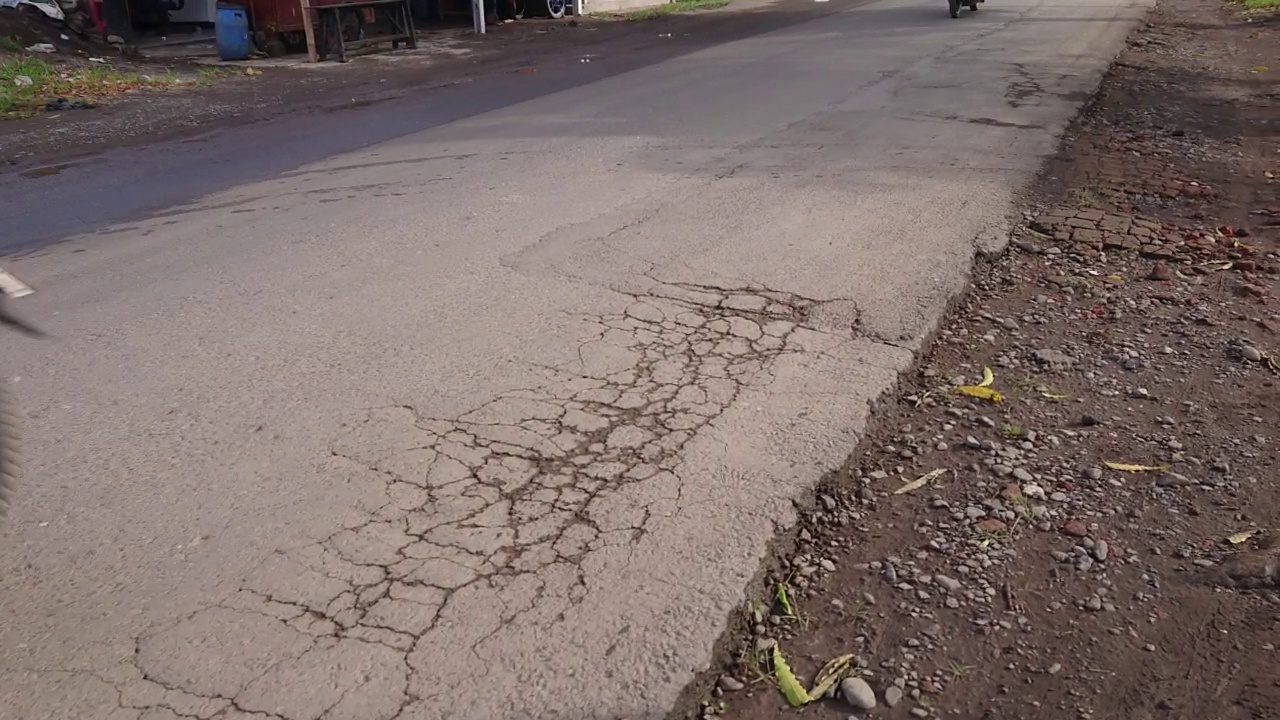Retak: (265, 289, 813, 690), (997, 62, 1056, 120)
